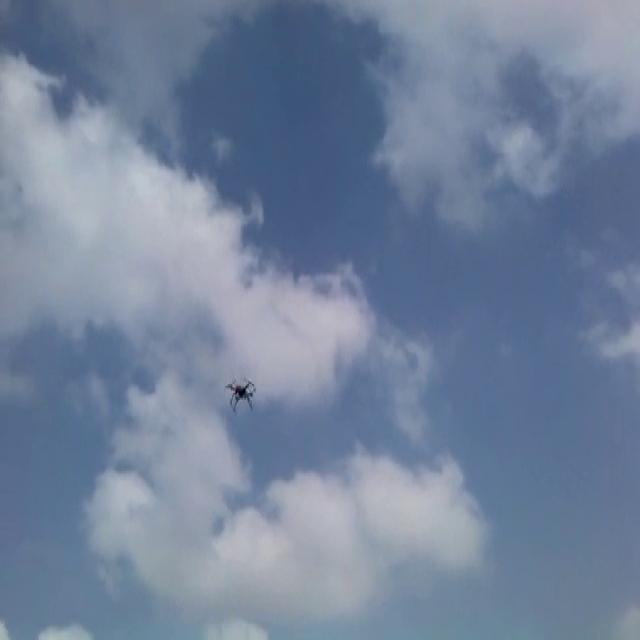drone: (223, 372, 258, 416)
